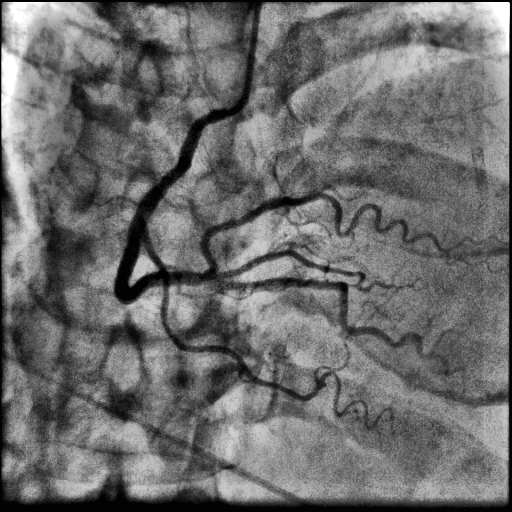pborca: (200, 193, 449, 273)
pda: (214, 278, 449, 380)
rca: (115, 108, 229, 304)
